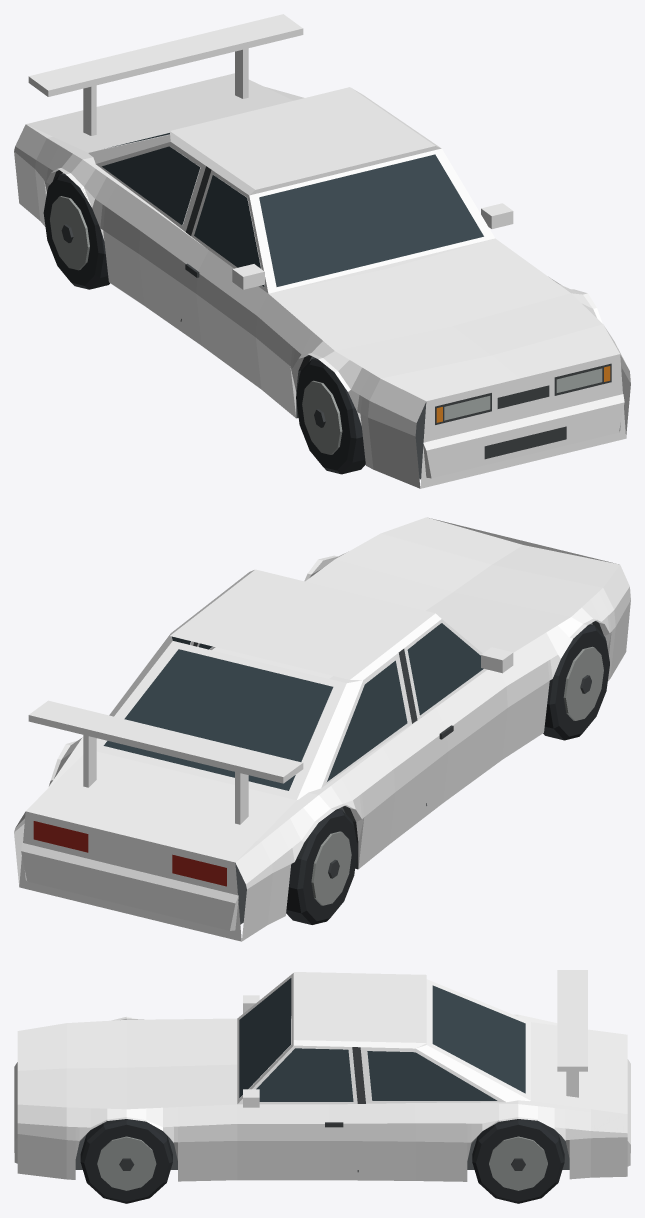
The model's file is hayase_mikazuki_corrida.glb.
The picture shows the model from 3 angles, top to bottom: view 1: azimuth 30°, elevation 25°; view 2: azimuth 150°, elevation 25°; view 3: azimuth 270°, elevation 25°; orthographic projection. The views are drawn at different scales.
Visible parts, largest first — view 1: hayase_mikazuki_corrida; view 2: hayase_mikazuki_corrida; view 3: hayase_mikazuki_corrida.
Boxes of the visible parts, bbox=[...] form: hayase_mikazuki_corrida: bbox=[14, 14, 630, 488]; hayase_mikazuki_corrida: bbox=[14, 517, 630, 941]; hayase_mikazuki_corrida: bbox=[14, 970, 630, 1203].
Bounding box in the file's own units: 1.74 × 1.19 × 4.44.
Materials: 8 (1 with a texture image).
